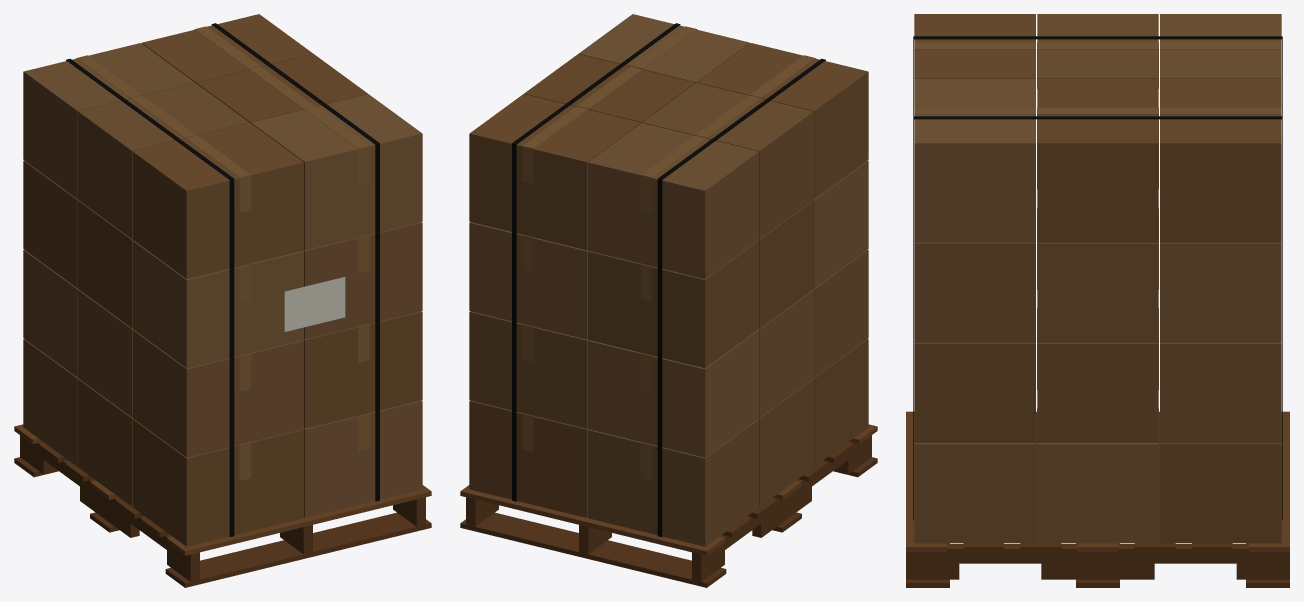
File: standard-loaded-pallet-lods.fbx
3 renders of one model, left to right at view 1: azimuth 30°, elevation 25°; view 2: azimuth 150°, elevation 25°; view 3: azimuth 270°, elevation 25°, orthographic. The views are drawn at different scales.
Parts seen in each view (by area): view 1: Pallet_LOD0; view 2: Pallet_LOD0; view 3: Pallet_LOD0.
Boxes of the visible parts, x1=… form: Pallet_LOD0: x1=14, y1=14, x2=431, y2=587; Pallet_LOD0: x1=460, y1=14, x2=877, y2=587; Pallet_LOD0: x1=906, y1=14, x2=1289, y2=587.
Size of what is drawn, in the model's own units: 102 by 155 by 122.
